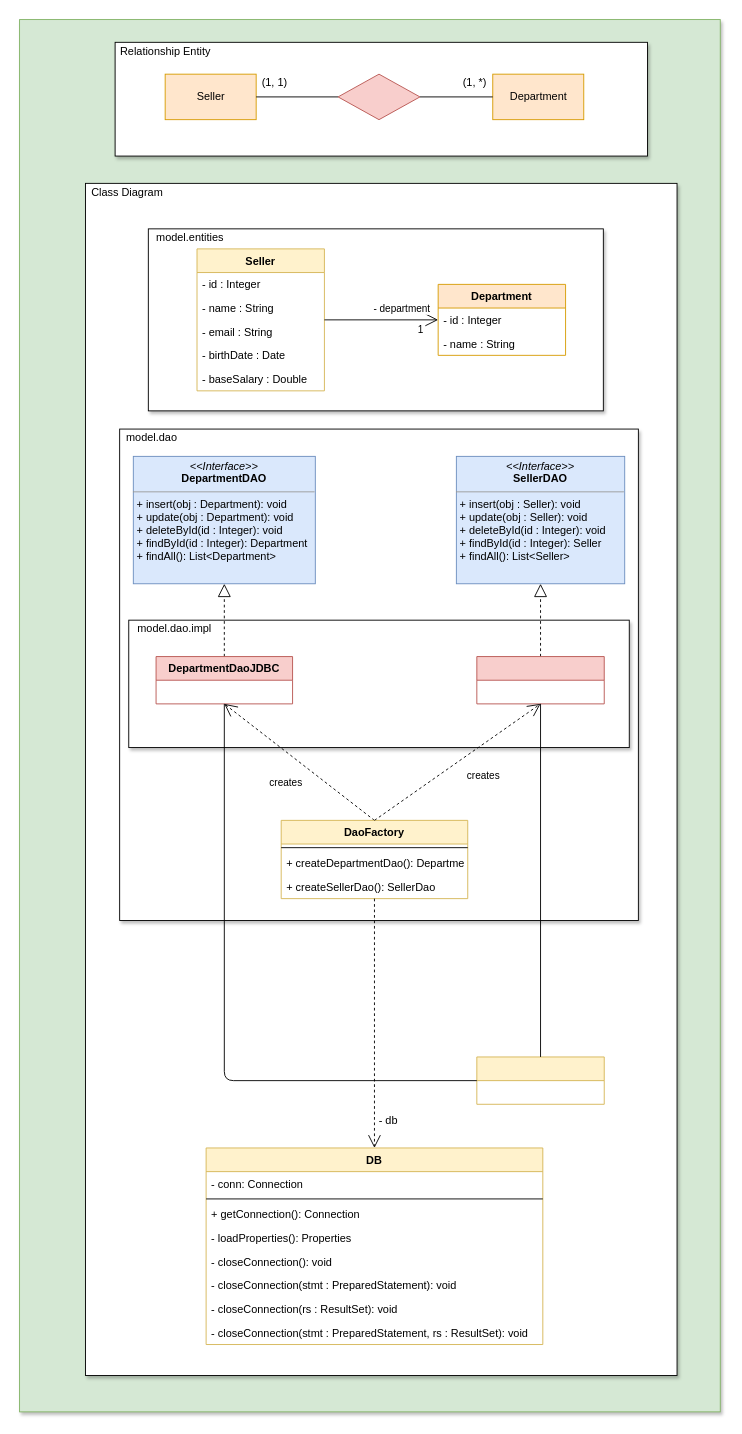
This 742x1434 diagram has some shape labels left out. The centre of each missing label's shape, as x and y in pixels:
DaoJDBC: the point at 540,680
DbException: the point at 540,1080
Works: the point at 378,96
